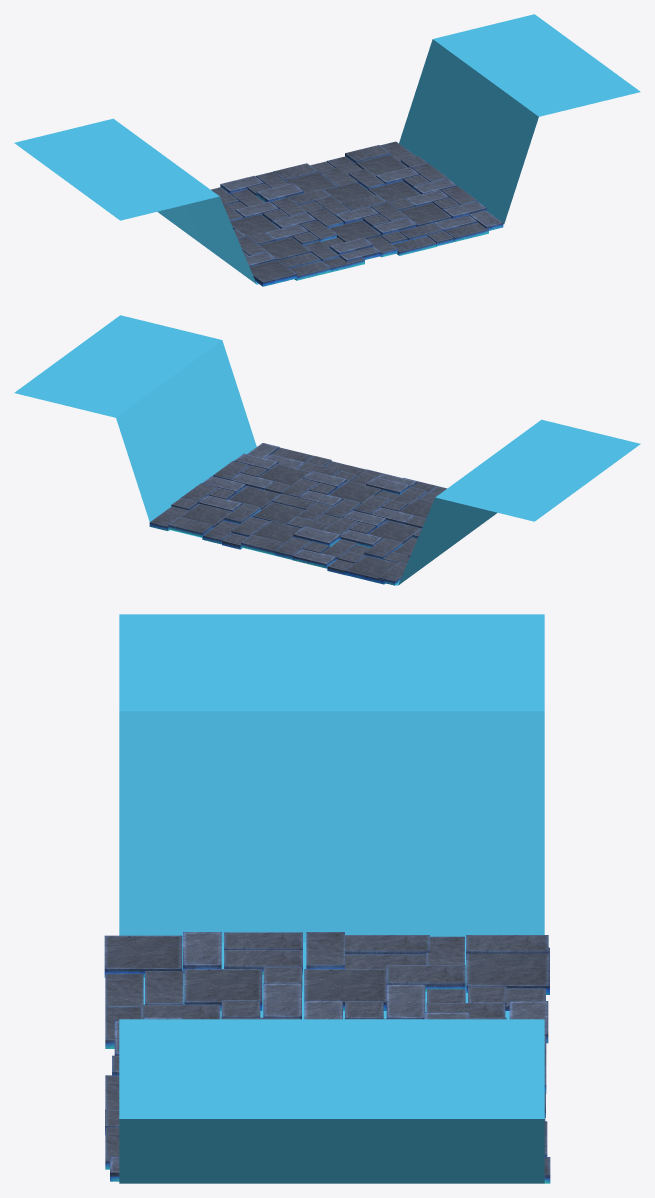
File: FB_MoFangHuanJing_Dibiao.FBX
The picture shows the model from 3 angles, top to bottom: view 1: azimuth 30°, elevation 25°; view 2: azimuth 150°, elevation 25°; view 3: azimuth 270°, elevation 25°; orthographic projection. The views are drawn at different scales.
Parts seen in each view (by area): view 1: Object03, Box03; view 2: Object03, Box03; view 3: Object03, Box03.
Part boxes in pixels (x1,y1,x2,y2): Object03: [14, 14, 640, 284]; Box03: [211, 141, 503, 286]; Object03: [14, 315, 640, 585]; Box03: [149, 443, 446, 585]; Object03: [119, 614, 544, 1183]; Box03: [104, 932, 550, 1183].
Size of the model in its own units: 28.27 by 5.27 by 10.48.
